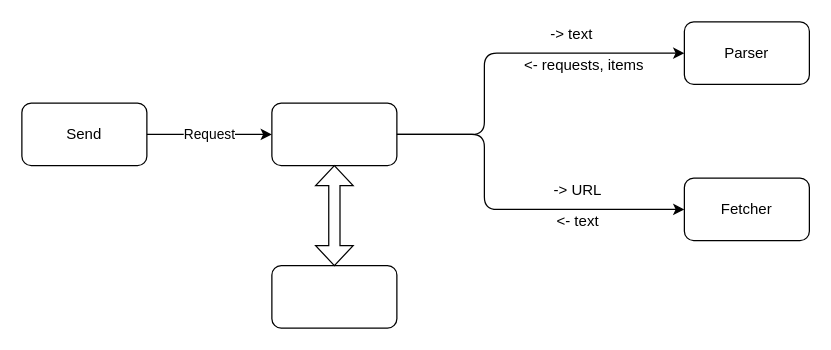
The diagram is 831 pixels wide and 350 high, and some of its shapes have lost their labels. Here are the shapes that lost their labels. From the top down, the centre of each, then its label:
the point at 334,134: Engine
the point at 334,296: 任务队列
